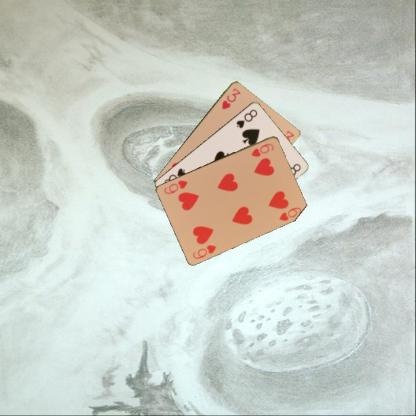3h: (219, 86, 241, 110)
6h: (190, 242, 217, 260), (248, 141, 275, 158)
8s: (233, 106, 259, 130)
